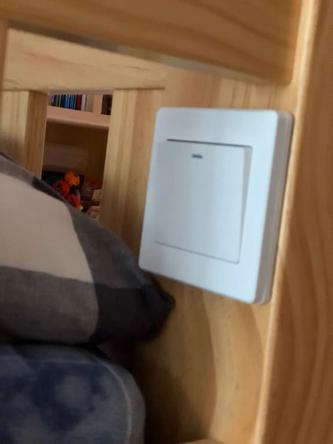switch: (145, 135, 259, 264)
